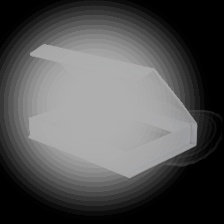book: (17, 35, 200, 183)
